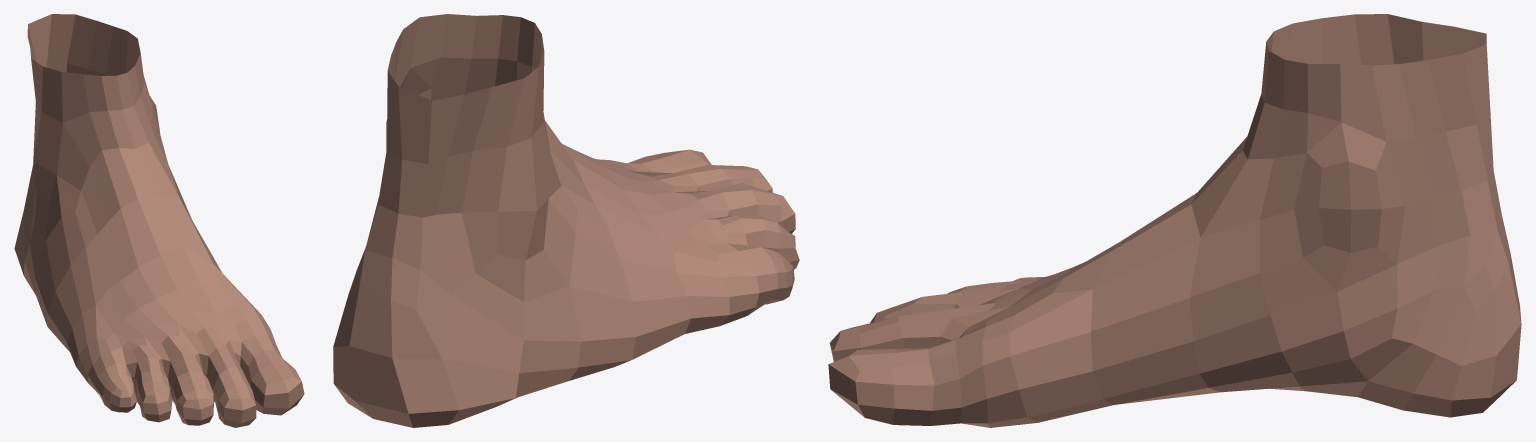
Rendered from 0_3_FootPolygonalRight.glb.
3 renders of one model, left to right at view 1: azimuth 30°, elevation 25°; view 2: azimuth 150°, elevation 25°; view 3: azimuth 270°, elevation 25°, orthographic. The views are drawn at different scales.
Parts seen in each view (by area): view 1: polySurface1156.003; view 2: polySurface1156.003; view 3: polySurface1156.003.
Part boxes in pixels (x1,y1,x2,y2): polySurface1156.003: (14,14,304,427); polySurface1156.003: (333,14,799,427); polySurface1156.003: (828,14,1521,427).
Bounding box in the file's own units: 0.0725 × 0.1078 × 0.1818.
